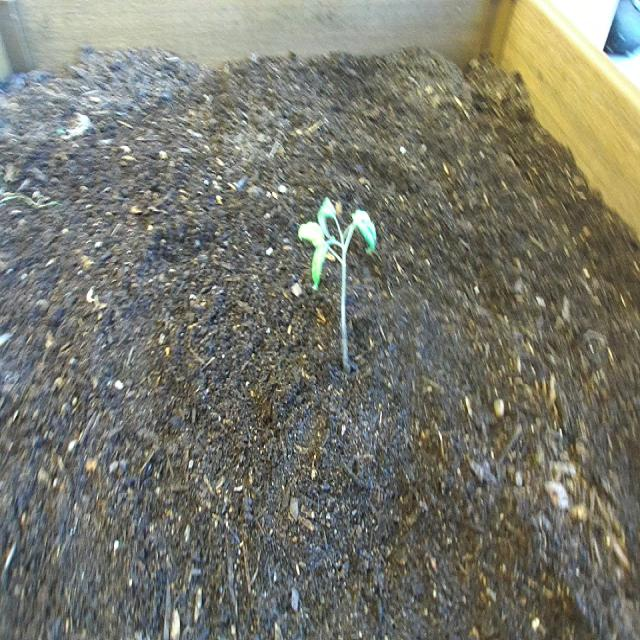Healthy: (295, 192, 381, 381)
